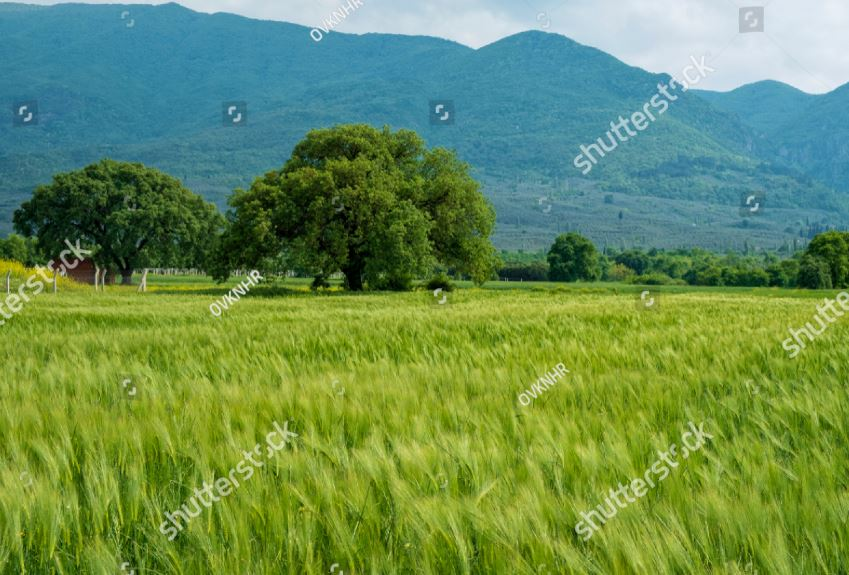Wheat: (55, 364, 516, 561)
